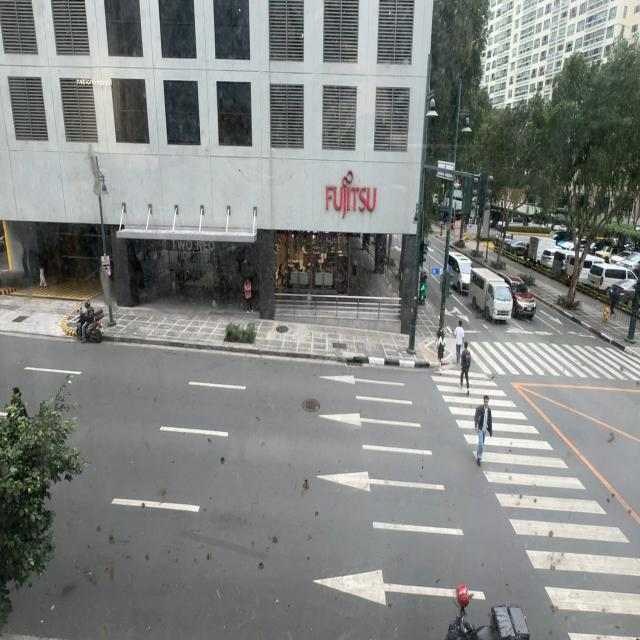crossing: (474, 398, 492, 465), (460, 341, 471, 392), (453, 321, 465, 365), (436, 326, 446, 372)
pedestrain: (21, 244, 30, 279), (610, 287, 620, 316), (245, 277, 252, 314), (39, 264, 47, 288)
